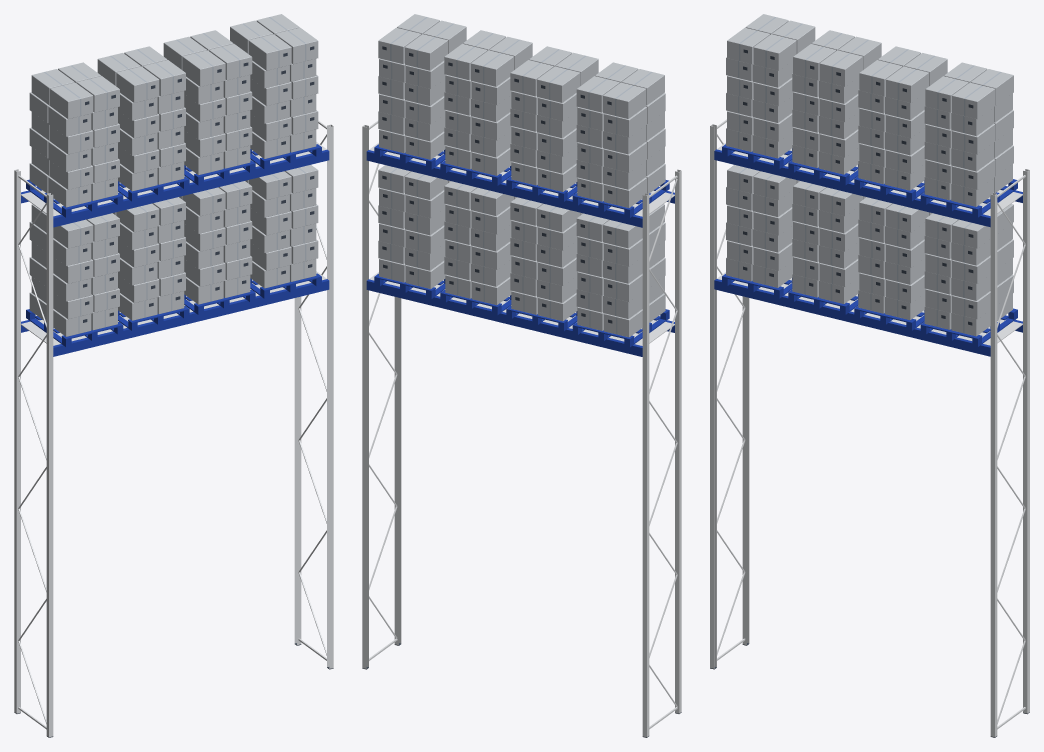
The model's file is SM_MPR_CADRack_F7_W192_Passage.fbx.
The picture shows the model from 3 angles, left to right: view 1: azimuth 30°, elevation 25°; view 2: azimuth 150°, elevation 25°; view 3: azimuth 330°, elevation 25°; orthographic projection.
Visible parts, largest first — view 1: SM_MPR_CADRack_F7_W192_Passage; view 2: SM_MPR_CADRack_F7_W192_Passage; view 3: SM_MPR_CADRack_F7_W192_Passage.
Boxes of the visible parts, <box> form: SM_MPR_CADRack_F7_W192_Passage: <box>14,14,333,737</box>; SM_MPR_CADRack_F7_W192_Passage: <box>362,14,681,737</box>; SM_MPR_CADRack_F7_W192_Passage: <box>710,14,1029,737</box>.
Size of the model in its own units: 503 by 122 by 1068.
